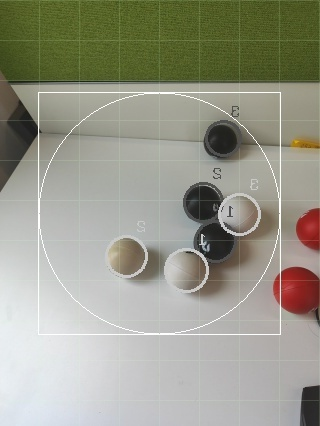Pelota blanca: (0, 73, 39, 191), (165, 246, 212, 294), (218, 190, 262, 238), (106, 236, 151, 280)
Pelota negra: (202, 118, 244, 160), (183, 180, 225, 222), (300, 385, 320, 425)
Pelota roja: (271, 265, 320, 315), (295, 206, 320, 251)
